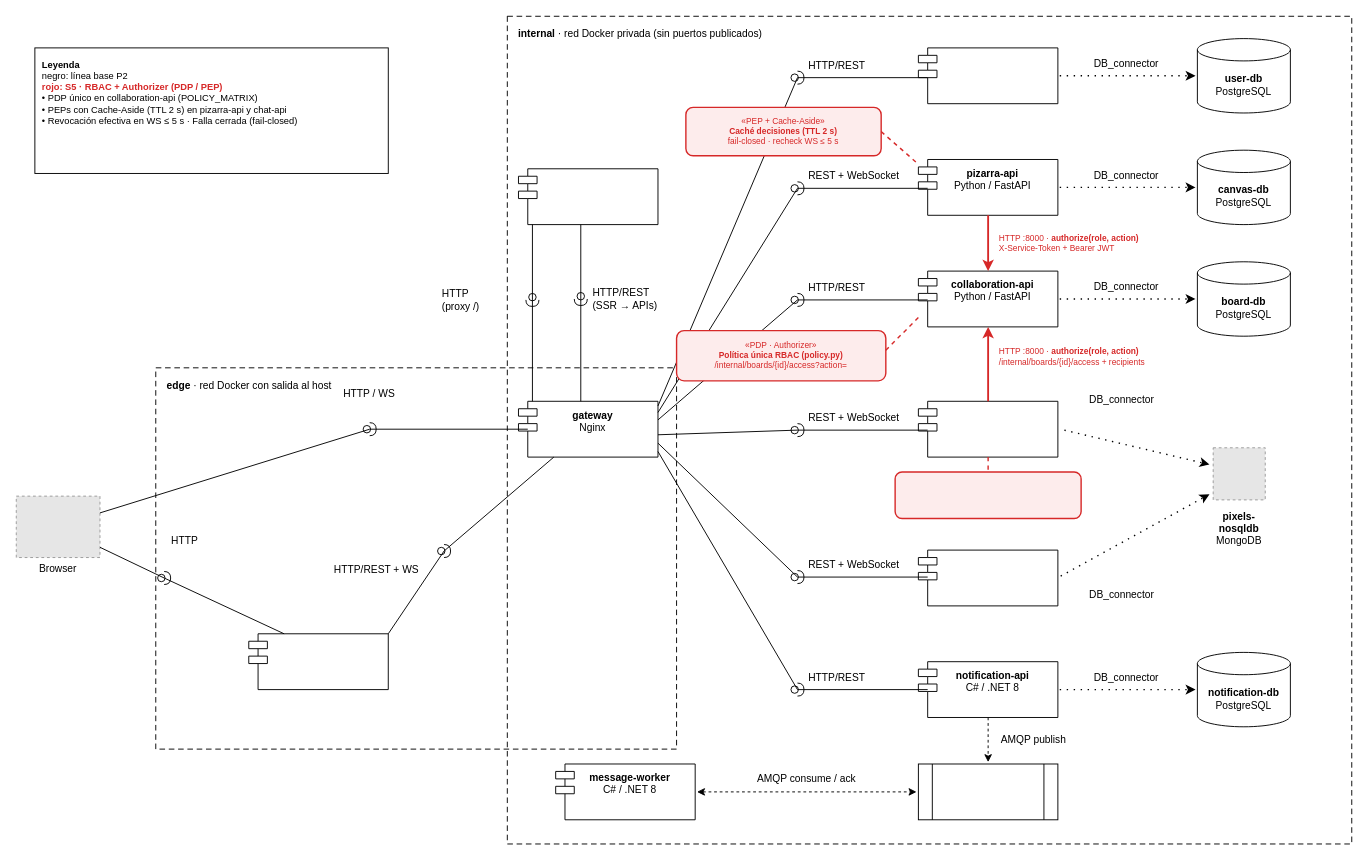
Image size: 1368x860. Some labels were removed from this diagram. Grey dashed boxes stand in for pictures. The shapes that lost their labels are listed below. From the top down, each one's centre as x and y in pixels, then its label:
(987,75): auth-api Go
(588,196): web-ssr Node.js / TypeScript
(987,428): chat-api Java / Spring Boot
(987,495): «PEP + Cache-Aside» Caché decisiones (TTL 2 s) X-Service-Token · recheck WS 3 s
(987,577): pixels-api Rust / Axum
(318,661): pixels-ui Frontend SPA
(987,791): rabbitmq RabbitMQ
